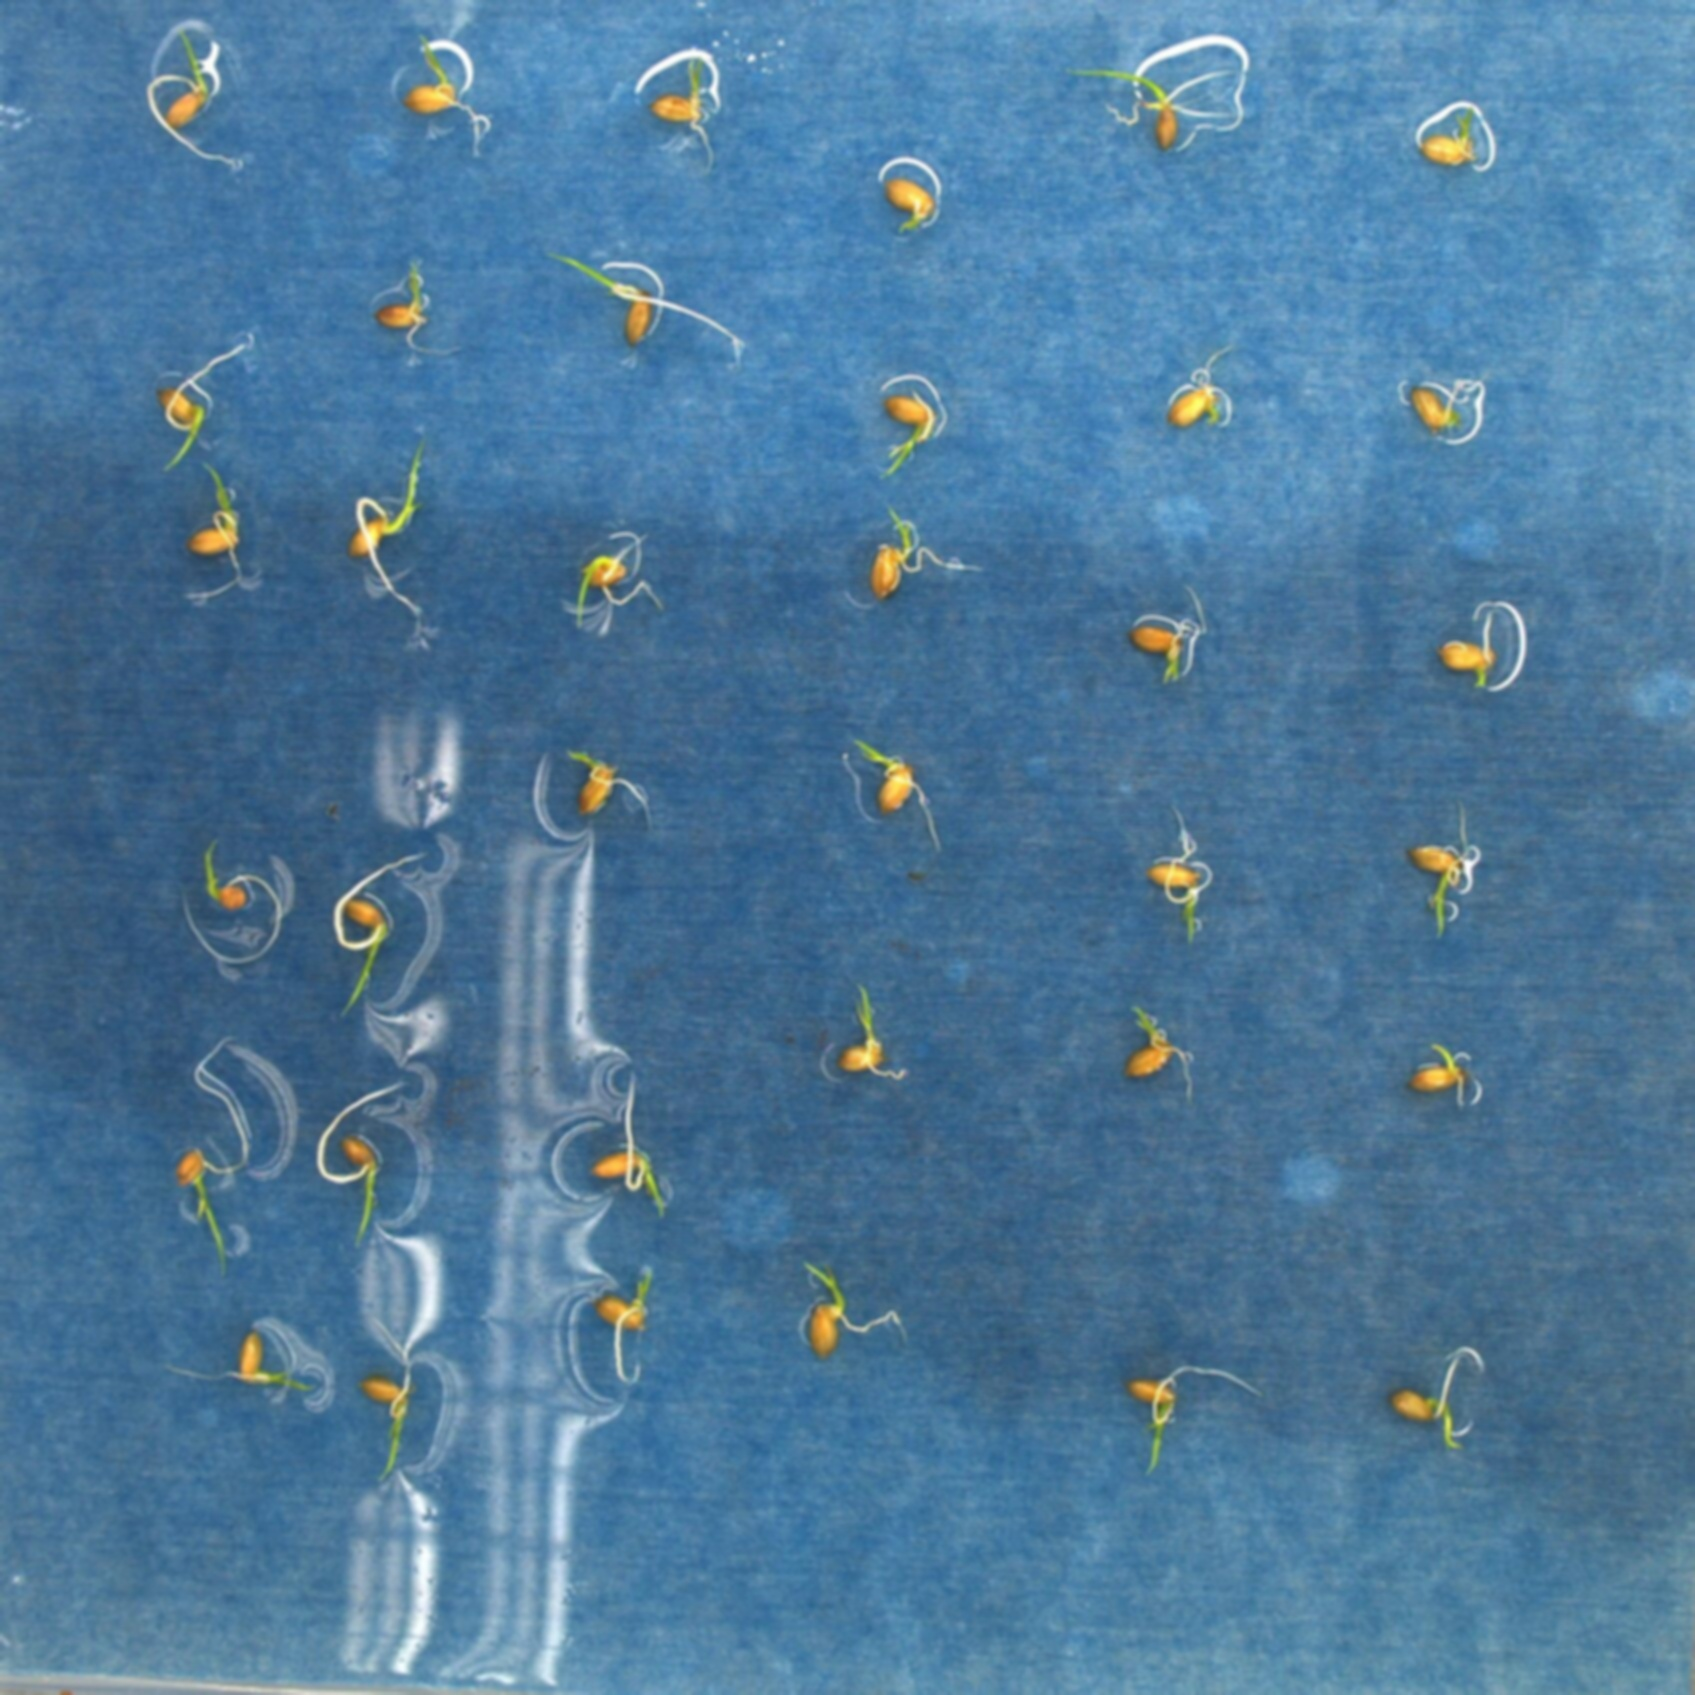not sprout: (1433, 602, 1507, 695), (1167, 348, 1229, 432), (1412, 106, 1484, 171), (882, 171, 941, 237)
sprout: (536, 248, 744, 373), (309, 1069, 418, 1246), (175, 1035, 251, 1277), (1066, 64, 1250, 154), (332, 852, 432, 1017), (1128, 1360, 1260, 1479), (349, 435, 430, 622), (144, 31, 247, 179), (175, 837, 282, 965), (357, 1312, 427, 1498), (155, 335, 248, 473), (1381, 1340, 1484, 1456), (847, 733, 948, 851), (591, 1065, 667, 1217), (869, 498, 987, 596), (799, 1260, 911, 1363), (404, 33, 484, 158), (638, 45, 716, 175), (366, 256, 452, 369), (1146, 802, 1212, 945), (1122, 587, 1212, 692), (175, 459, 241, 601), (1406, 798, 1471, 939), (163, 1330, 331, 1385), (574, 532, 664, 632), (1118, 1004, 1198, 1105), (594, 1265, 653, 1388), (882, 379, 945, 490), (837, 983, 906, 1080), (562, 748, 655, 821), (1409, 1028, 1479, 1110), (1409, 380, 1473, 438)
